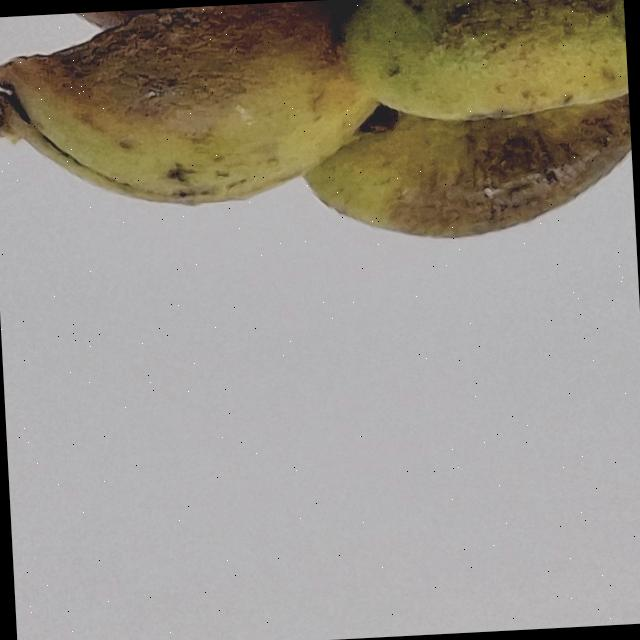mangosteen: (0, 0, 638, 311)
